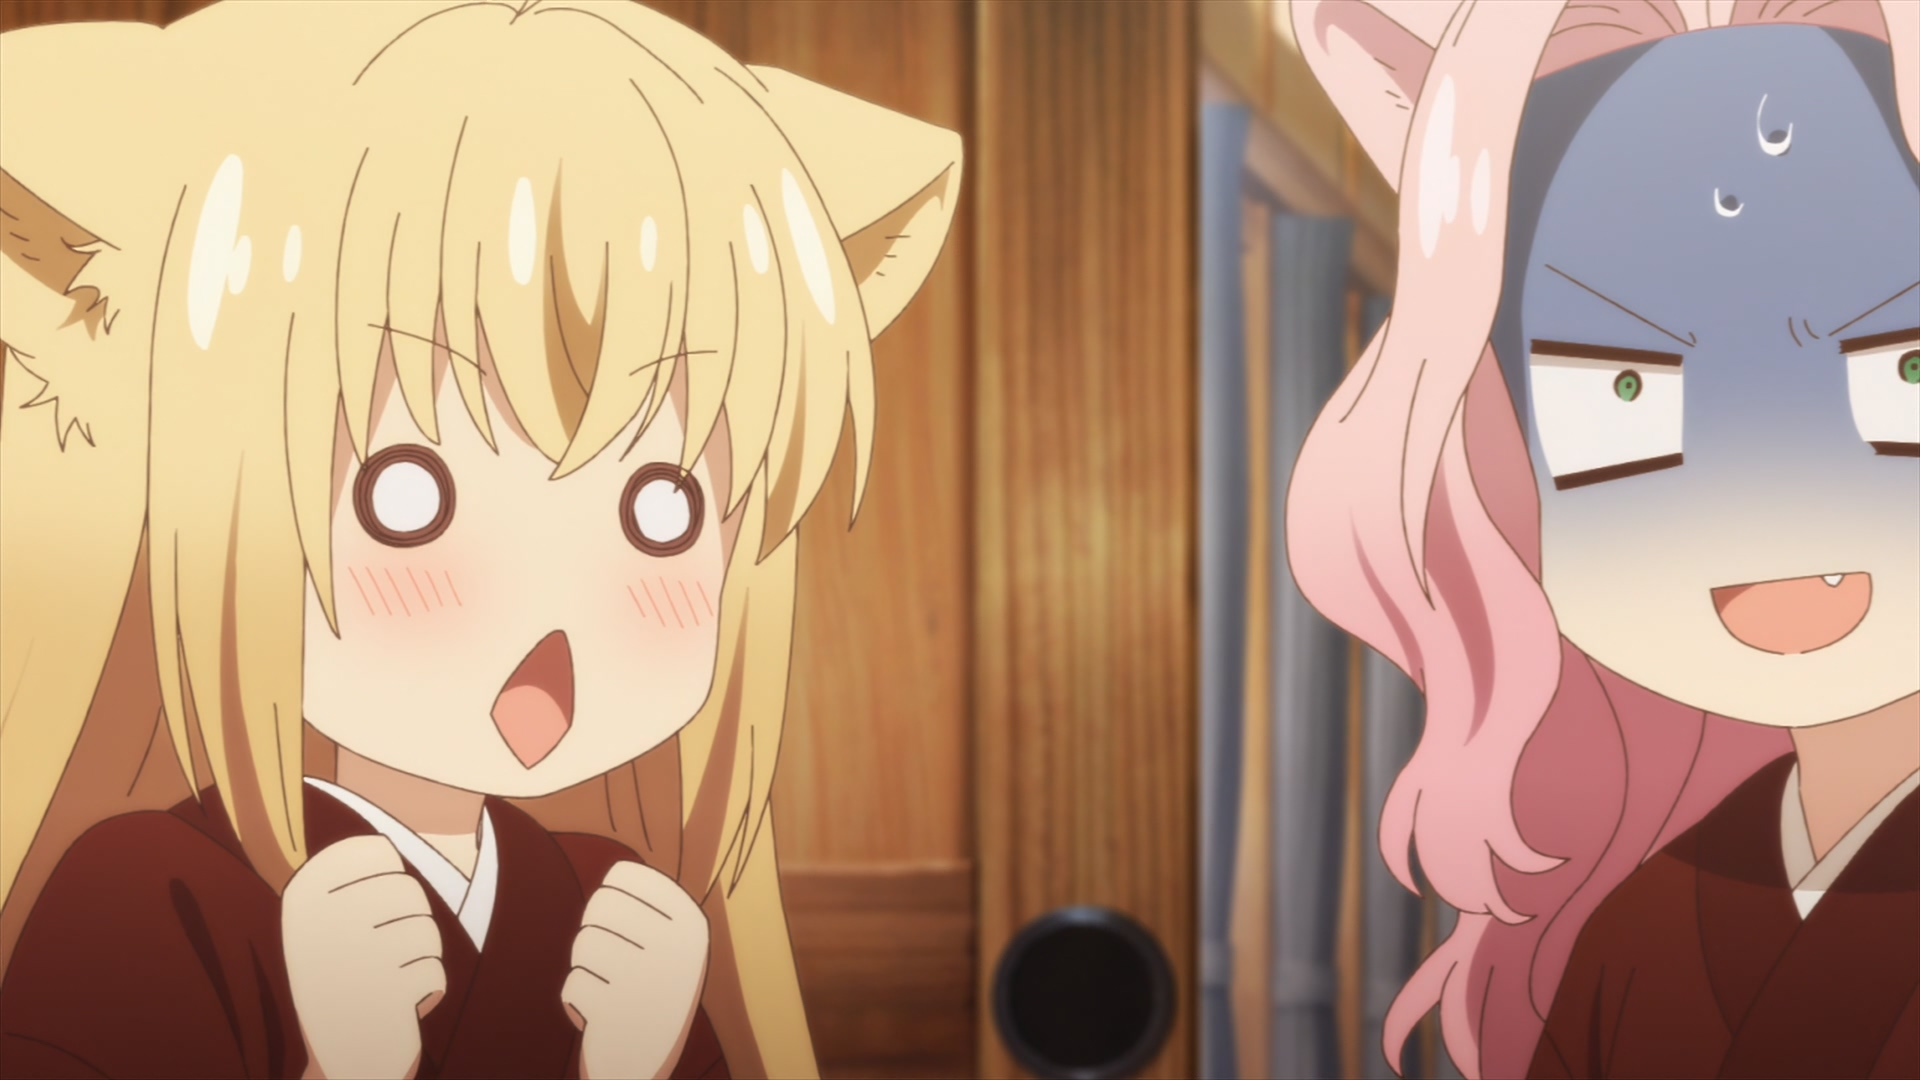柚: (1, 1, 964, 1080)
莲: (1284, 1, 1920, 1080)
